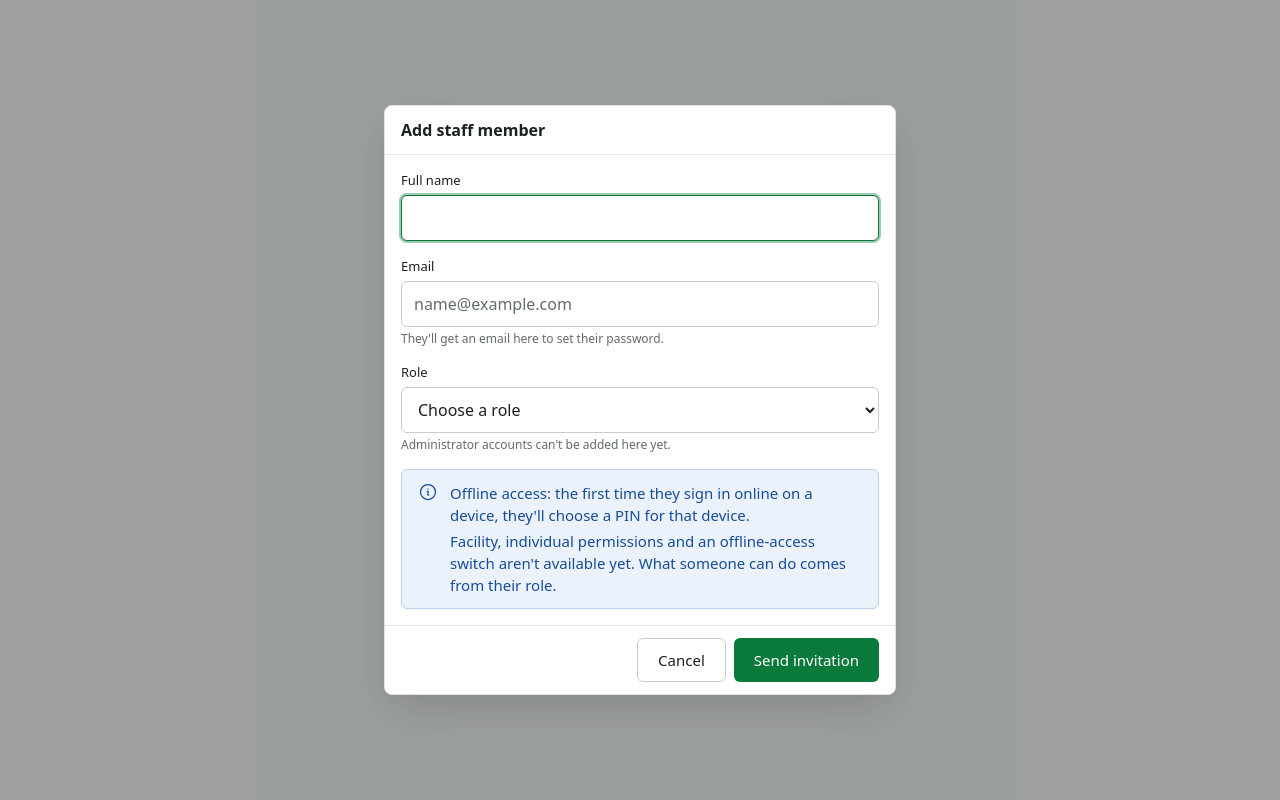
InviteStaffDialog › refuses an email address that doesn't look like one
Type "Ada Obi" into the field labelled "Full name" at coordinates (640, 218), box [401,195,879,241]
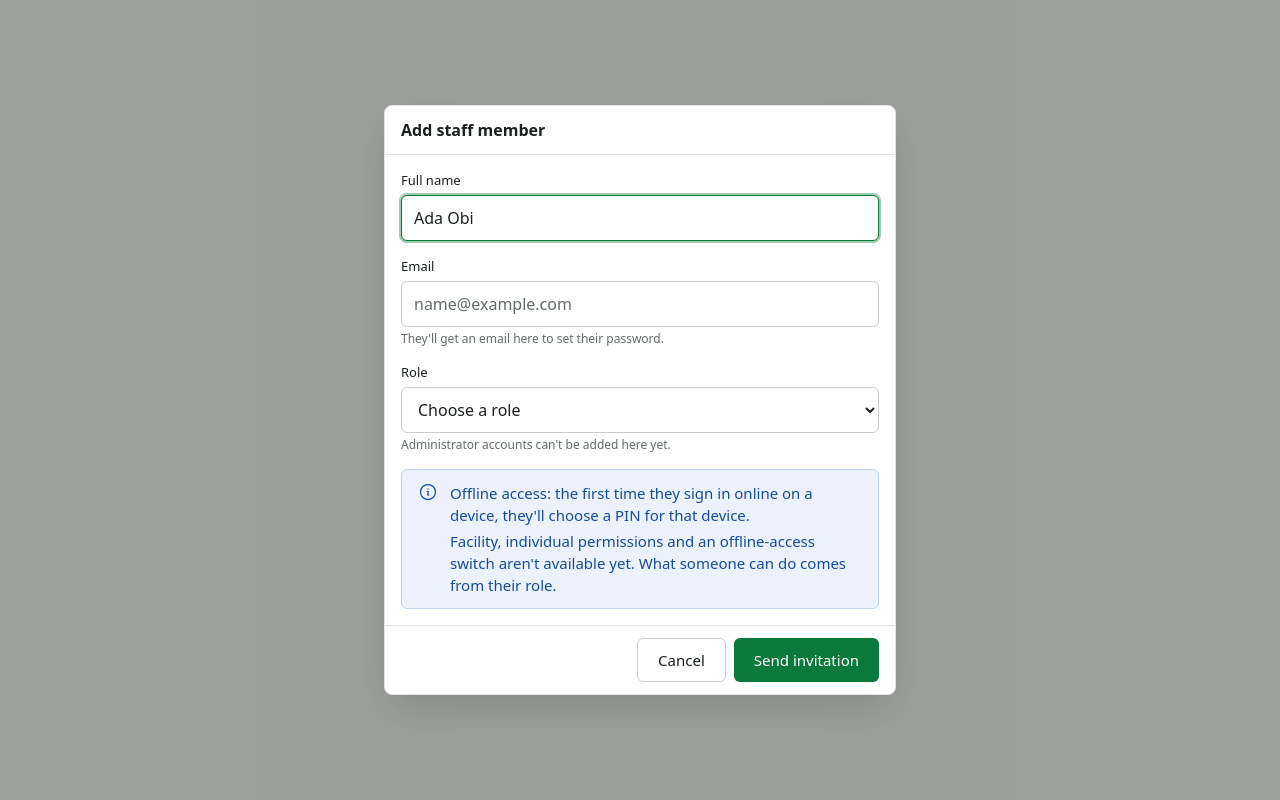
Type "ada.example.com" into the field labelled "Email" at coordinates (640, 304), box [401,281,879,327]
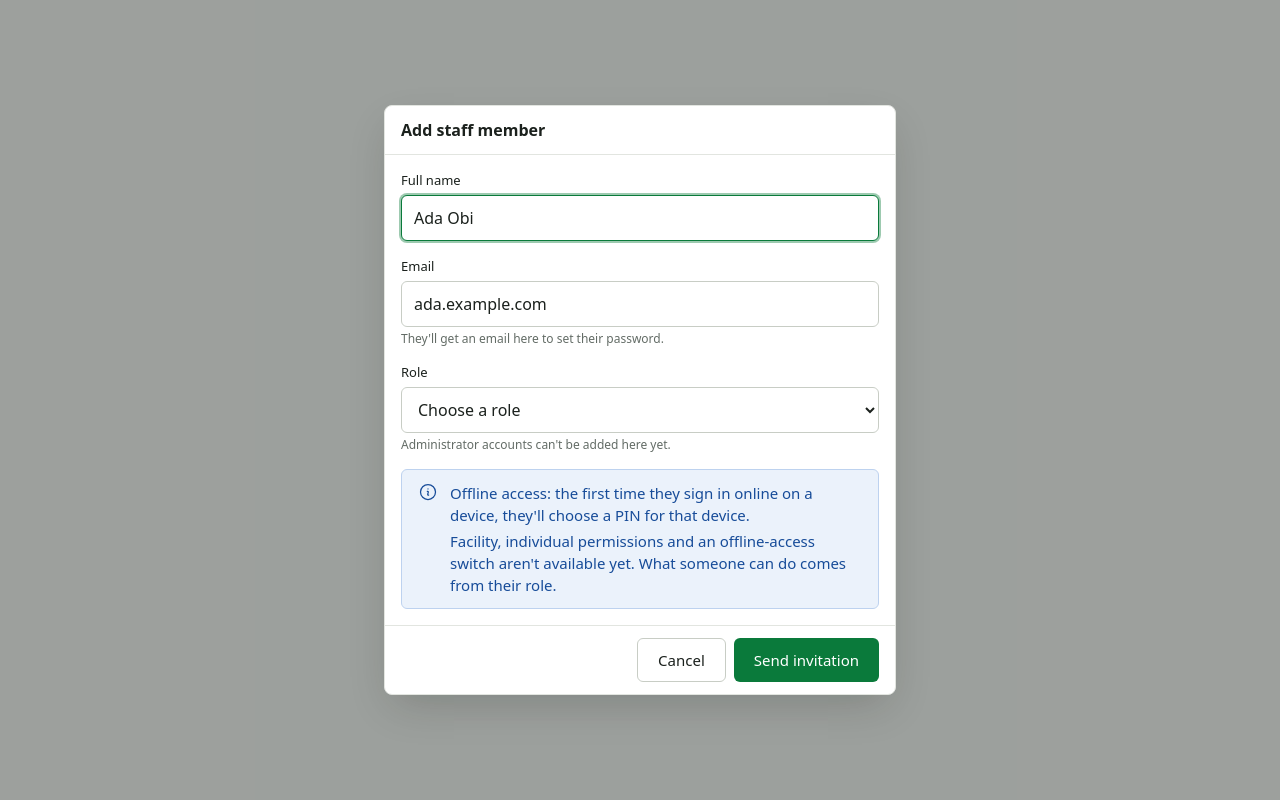
Select "Nurse" in the dropdown labelled "Role" at coordinates (640, 410), box [401,387,879,433]
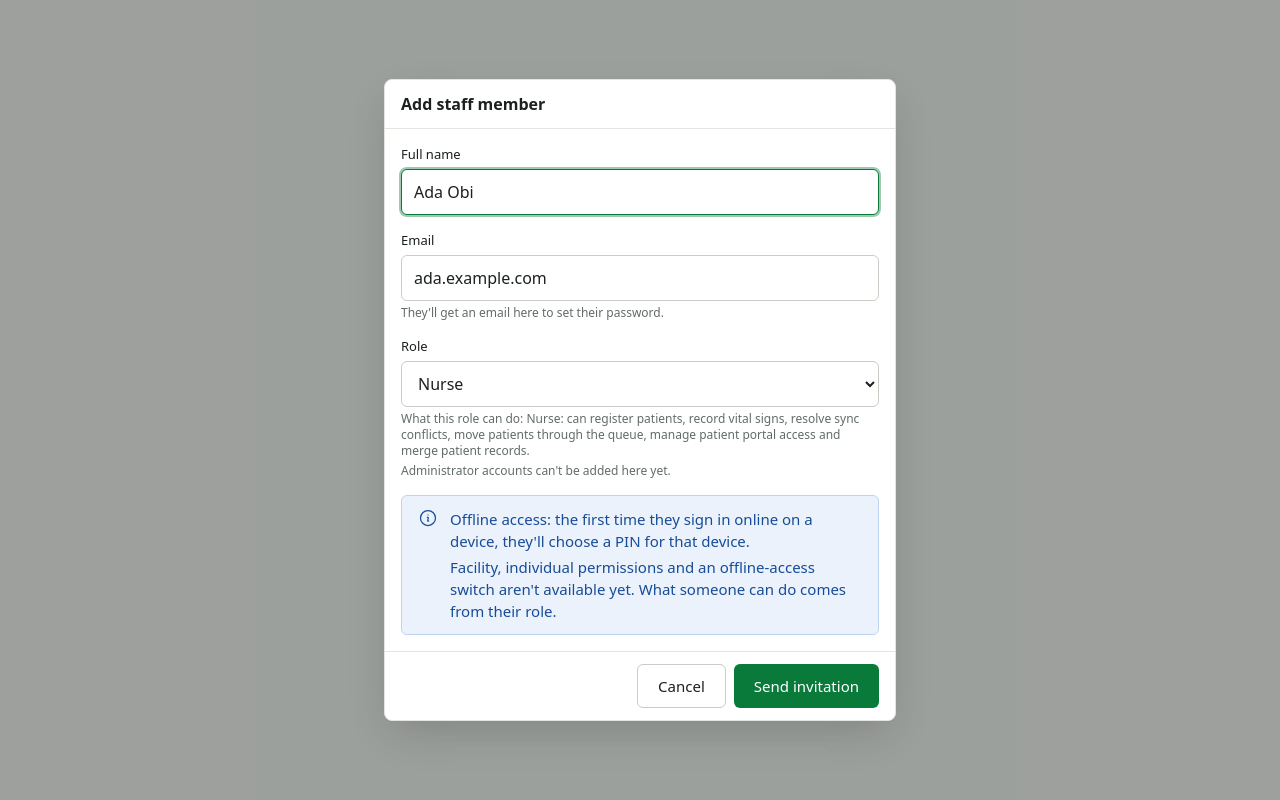
Click the button "Send invitation" at coordinates (806, 686), box [734,664,879,708]
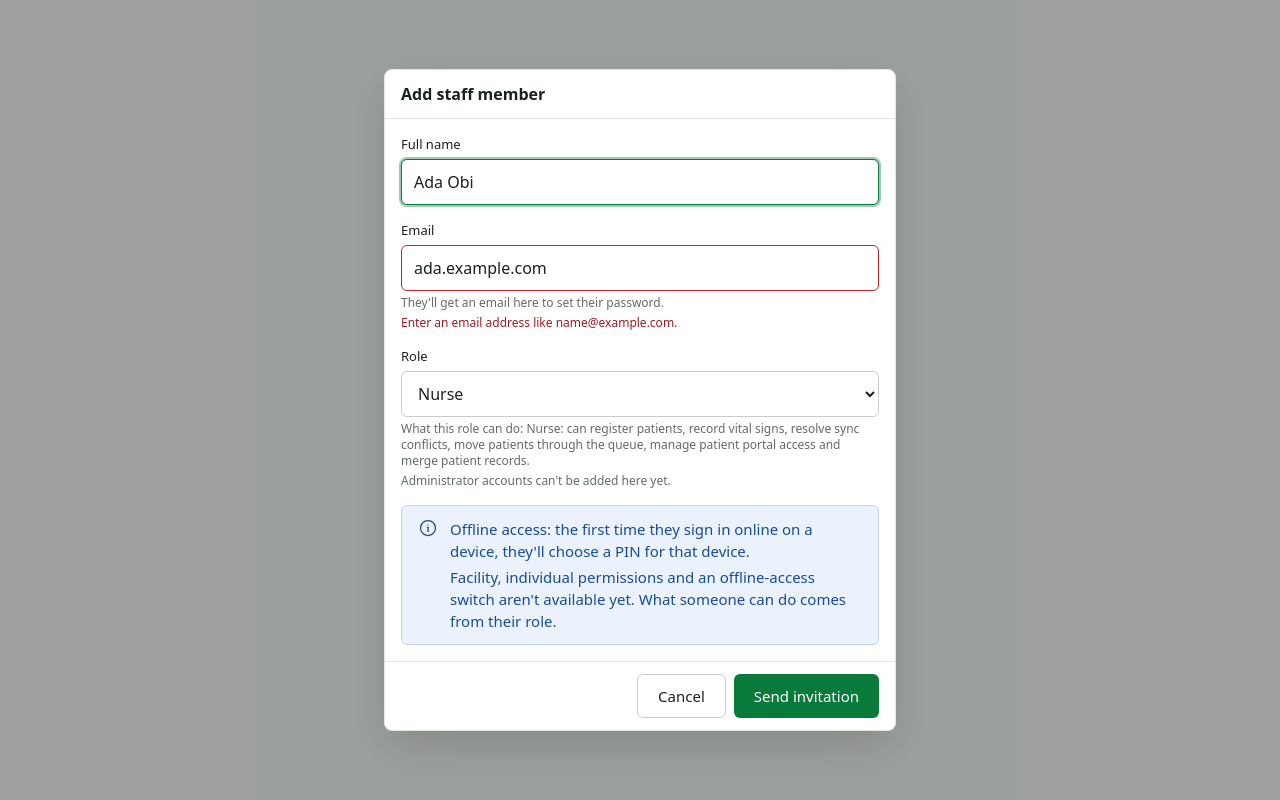
Expected: the text "Enter an email address like name@example.com." is shown, [401,314,677,331]
